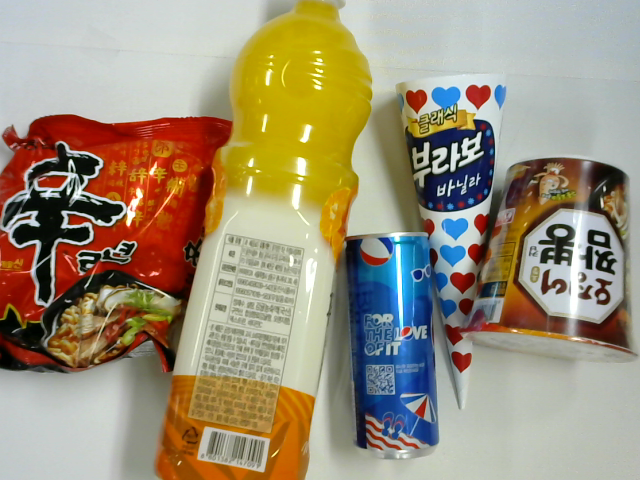Bravo_Cone_(Banila)_CVS: (391, 74, 509, 411)
Jeju_Tangerine_1.5L: (154, 1, 374, 480)
Ojjam: (456, 156, 640, 364)
Pepsi_Cola_Can_250ml: (345, 228, 447, 462)
Sinramen: (1, 117, 233, 370)
